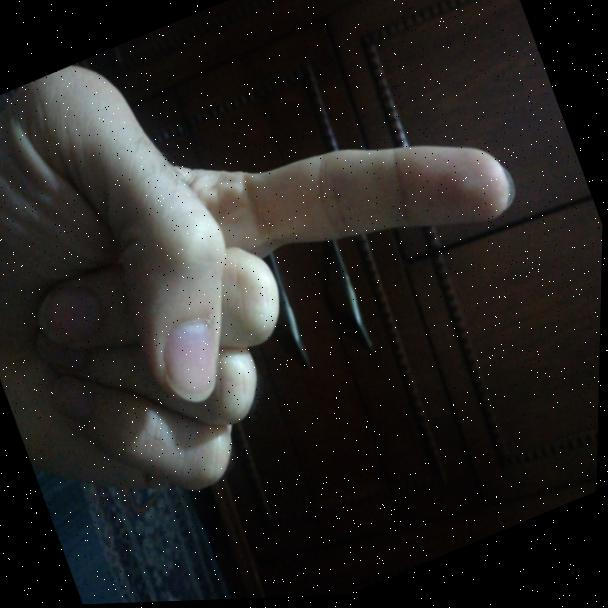one: (0, 0, 592, 557)
